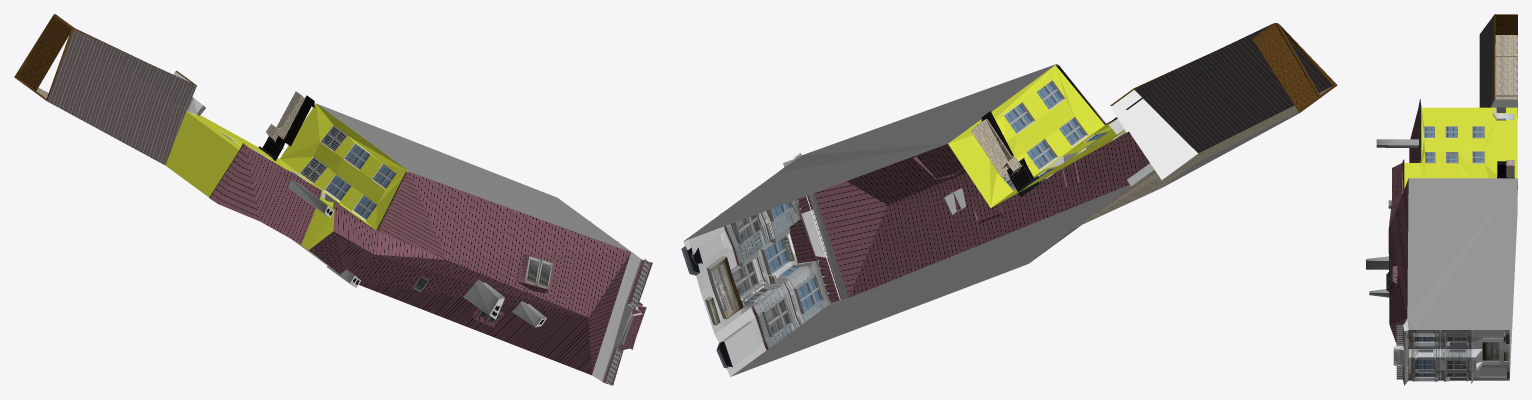
Rendered from Pikk_35-origo.obj.
The picture shows the model from 3 angles, left to right: view 1: azimuth 30°, elevation 25°; view 2: azimuth 150°, elevation 25°; view 3: azimuth 270°, elevation 25°; orthographic projection. The views are drawn at different scales.
Visible parts, largest first — view 1: Plane01; view 2: Plane01; view 3: Plane01.
Boxes of the visible parts, box(x1,y1,x2,y2) form: Plane01: box(14, 14, 652, 385); Plane01: box(681, 23, 1337, 376); Plane01: box(1366, 14, 1517, 385).
Bounding box in the file's own units: 42.56 × 31 × 17.78.
